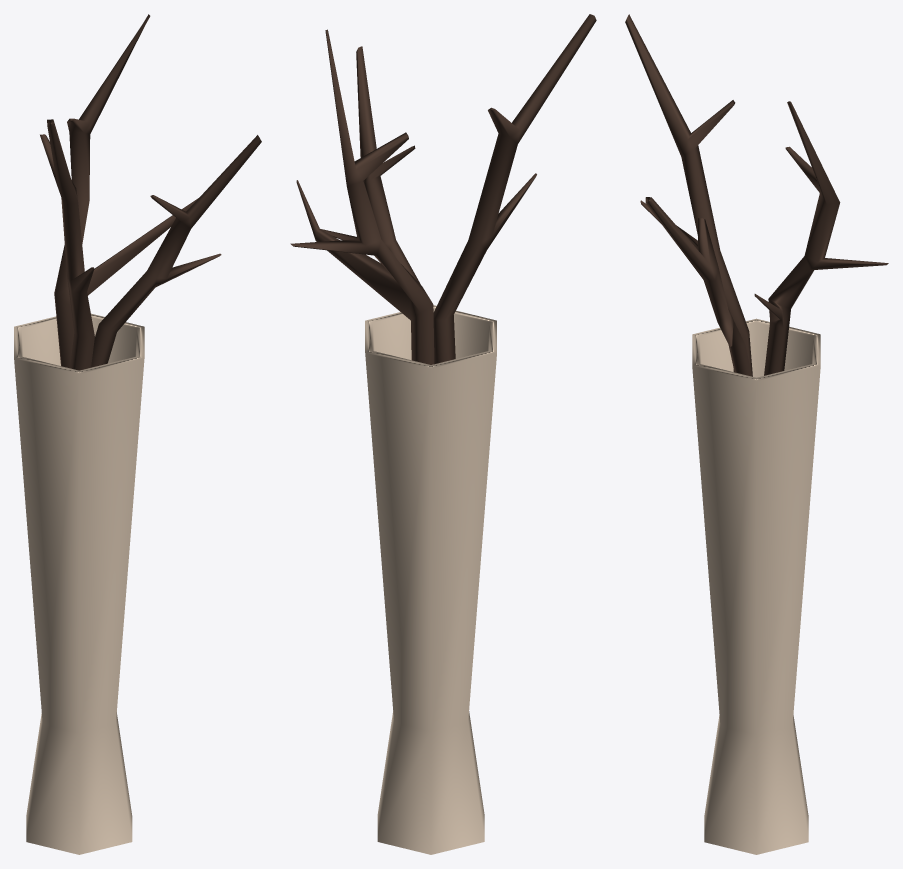
The model's file is vaseB.fbx.
The picture shows the model from 3 angles, left to right: view 1: azimuth 30°, elevation 25°; view 2: azimuth 150°, elevation 25°; view 3: azimuth 270°, elevation 25°; orthographic projection. The views are drawn at different scales.
Parts seen in each view (by area): view 1: vaseB; view 2: vaseB; view 3: vaseB.
Part boxes in pixels (x1,y1,x2,y2): vaseB: (14,14,261,854); vaseB: (290,14,596,854); vaseB: (625,14,888,854).
Size of the model in its own units: 0.1328 by 0.4289 by 0.1332.
